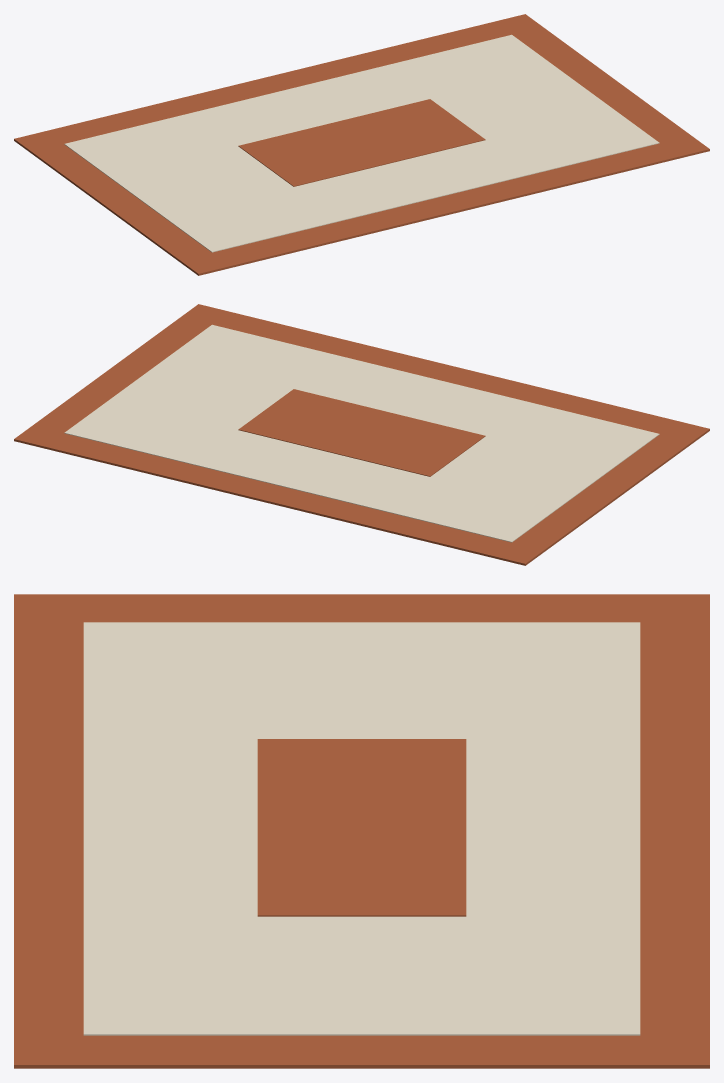
The picture shows the model from 3 angles, top to bottom: view 1: azimuth 30°, elevation 25°; view 2: azimuth 150°, elevation 25°; view 3: azimuth 270°, elevation 25°; orthographic projection. The views are drawn at different scales.
Parts seen in each view (by area): view 1: field, base, centre; view 2: field, base, centre; view 3: field, base, centre.
Part boxes in pixels (box(x1,y1,x2,y2)): field: box(64, 34, 659, 252); base: box(14, 14, 709, 275); centre: box(238, 99, 485, 186); field: box(64, 324, 659, 542); base: box(14, 304, 709, 565); centre: box(238, 389, 485, 476); field: box(83, 622, 640, 1035); base: box(14, 594, 709, 1068); centre: box(257, 739, 466, 916).
Size of the model in its own units: 1.6 by 0.01 by 1.
